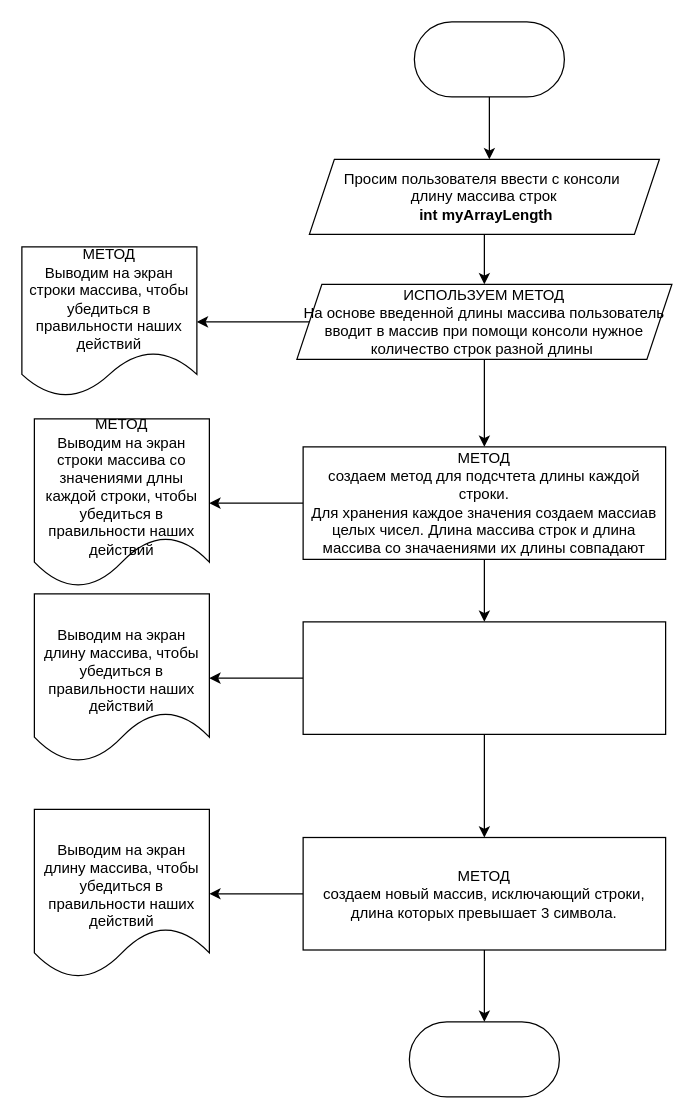
Image size: 694x1119. Some labels were removed from this diagram. The shapes that lost their labels are listed below. From the top down, each one's centre as x and y in pixels, then its label:
the point at 488,59: START
the point at 484,677: МЕТОД создаем метод для подсчтета длины нового массива.
the point at 483,1059: END
